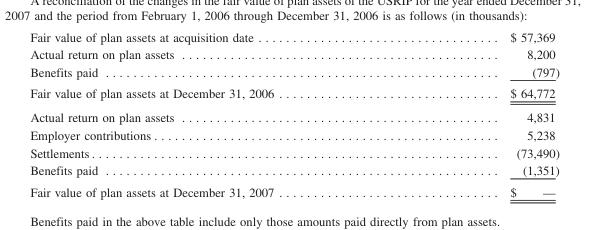table: (29, 29, 558, 198)
table column: (29, 29, 391, 198), (391, 29, 558, 198)
table row: (29, 82, 558, 105), (29, 62, 558, 82), (29, 105, 558, 125), (29, 161, 558, 180), (29, 125, 558, 143), (29, 143, 558, 161), (29, 180, 558, 198), (29, 45, 558, 62), (29, 29, 558, 45)
